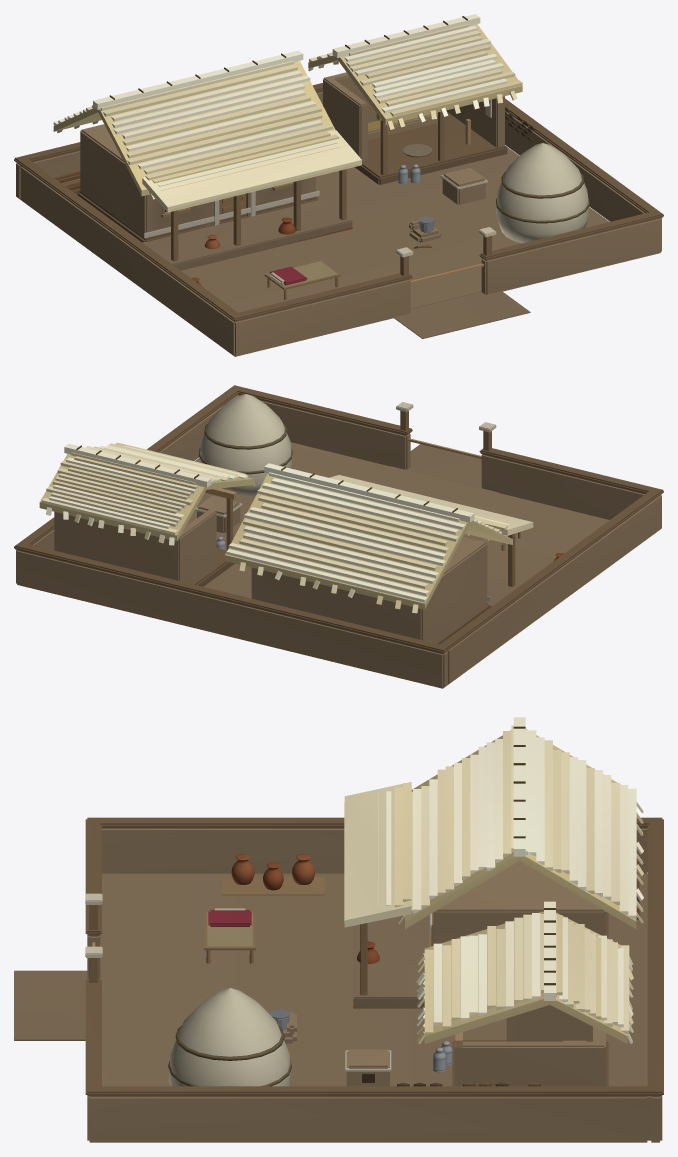
File: kachcha_homestead.glb
3 renders of one model, top to bottom at view 1: azimuth 30°, elevation 25°; view 2: azimuth 150°, elevation 25°; view 3: azimuth 270°, elevation 25°, orthographic. The views are drawn at different scales.
Parts seen in each view (by area): view 1: hb_main, hb_props, hb_wood; view 2: hb_main, hb_props, hb_wood; view 3: hb_main, hb_props, hb_wood.
Part boxes in pixels (x1,y1,x2,y2): hb_main: [14, 16, 663, 356]; hb_props: [53, 14, 589, 243]; hb_wood: [54, 99, 497, 299]; hb_main: [14, 385, 663, 688]; hb_props: [39, 394, 533, 613]; hb_wood: [205, 410, 520, 586]; hb_main: [14, 726, 663, 1142]; hb_props: [168, 717, 643, 1086]; hb_wood: [89, 858, 640, 1047].
Size of the model in its own units: 15.08 by 4.34 by 15.04.
